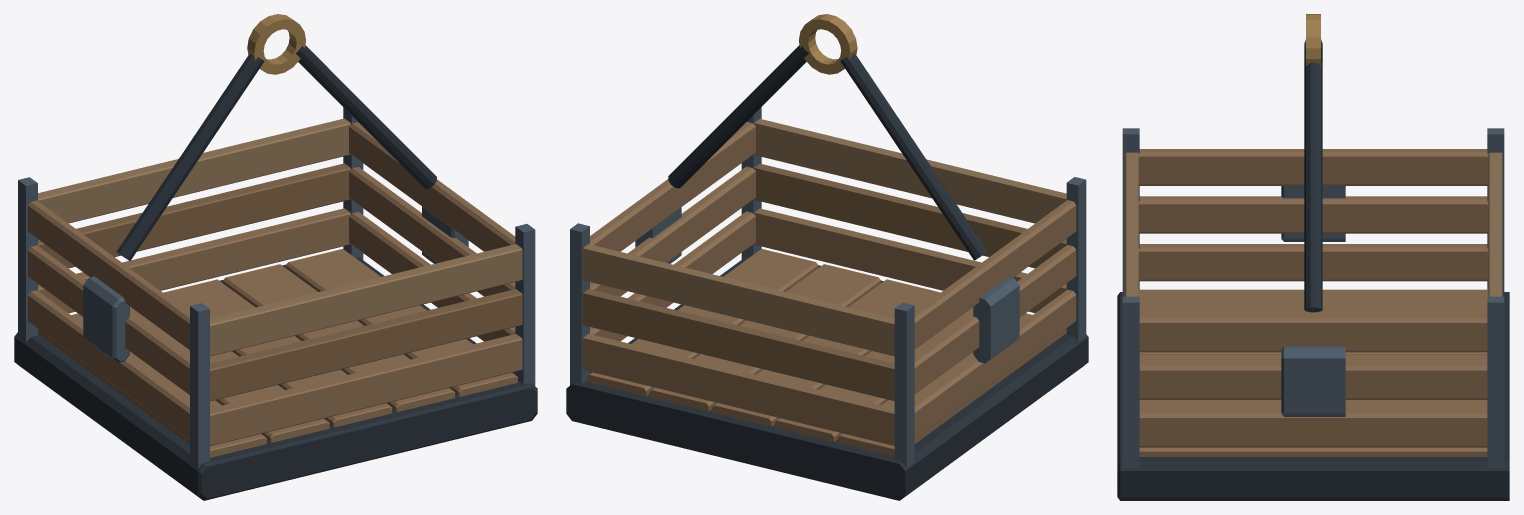
File: S-01_supply_basket.glb
The picture shows the model from 3 angles, left to right: view 1: azimuth 30°, elevation 25°; view 2: azimuth 150°, elevation 25°; view 3: azimuth 270°, elevation 25°; orthographic projection. The views are drawn at different scales.
Visible parts, largest first — view 1: S-01_supply_basket; view 2: S-01_supply_basket; view 3: S-01_supply_basket.
Part boxes in pixels (x1,y1,x2,y2): S-01_supply_basket: [14, 14, 537, 500]; S-01_supply_basket: [566, 14, 1088, 500]; S-01_supply_basket: [1117, 14, 1509, 500].
Bounding box in the file's own units: 0.755 × 0.7627 × 0.68.
